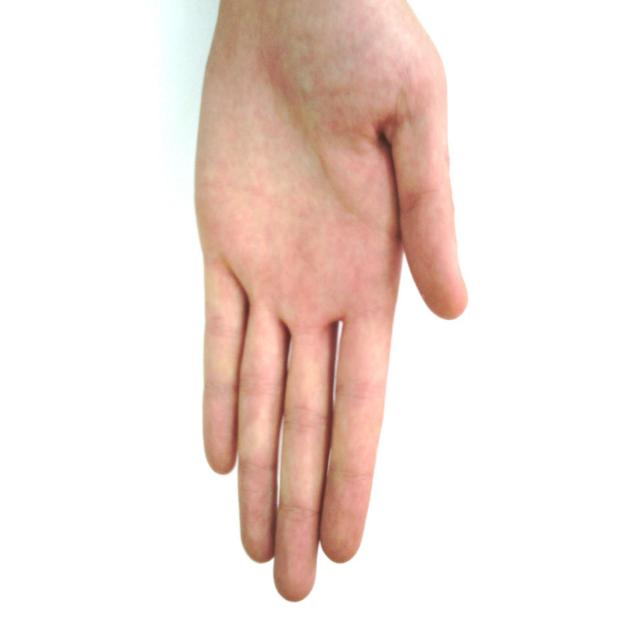others: (167, 0, 496, 606)
